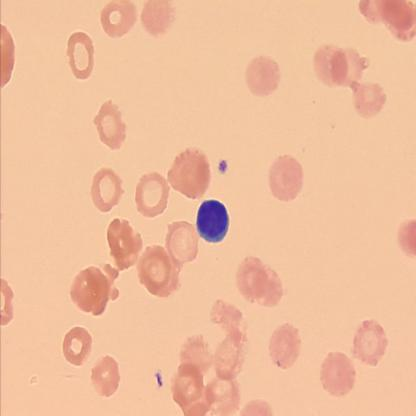Lymphocyte: (196, 199, 230, 244)
